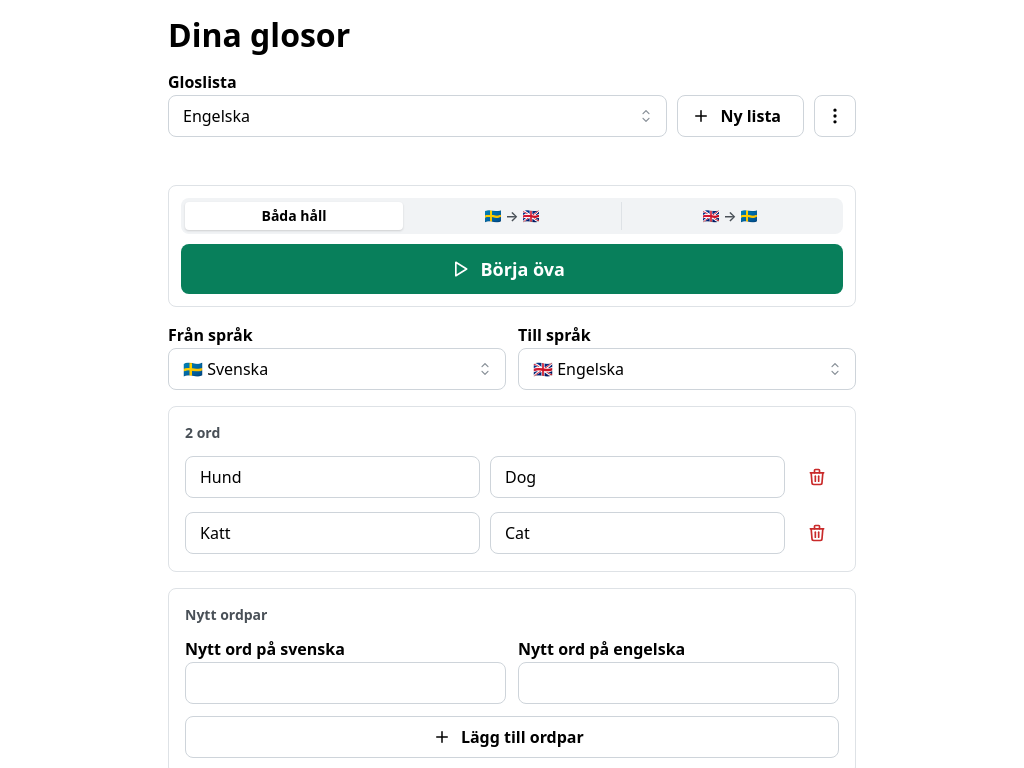
it: EditPage › creates a list and switches to it
Check: the dropdown labelled "Gloslista" is shown, box [168, 95, 667, 137]
Click the button "Ny lista" at (740, 116), box [677, 95, 804, 137]
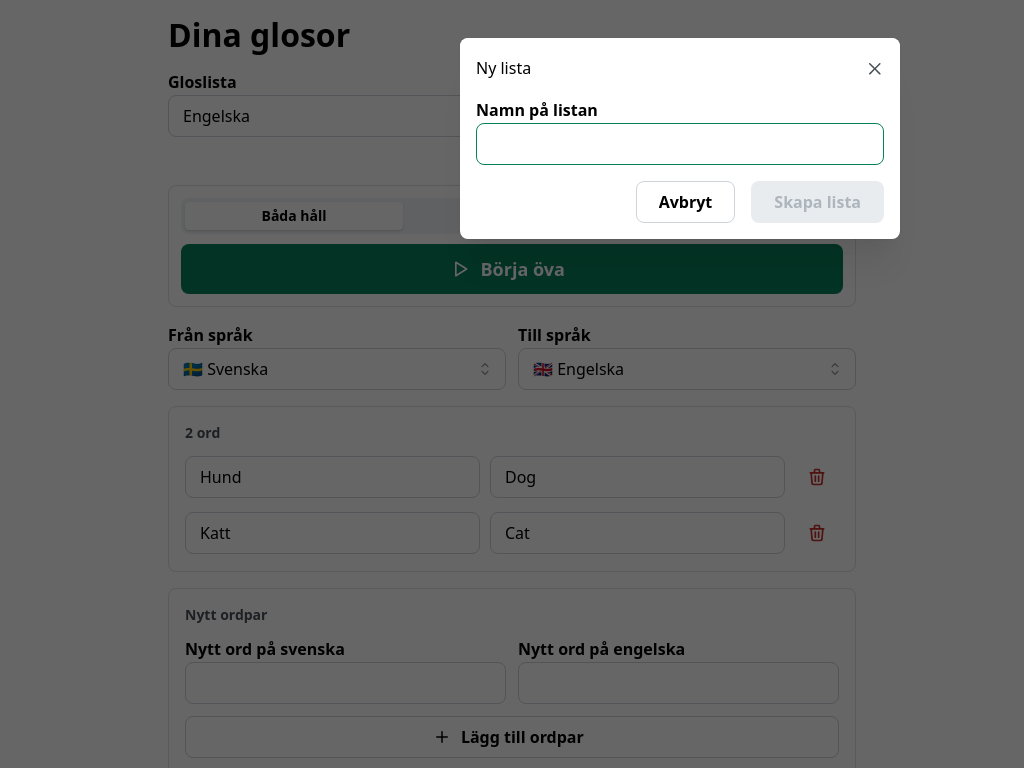
Type "Franska" into the field labelled "Namn på listan" at (680, 144), box [476, 123, 884, 165]
Then press Enter
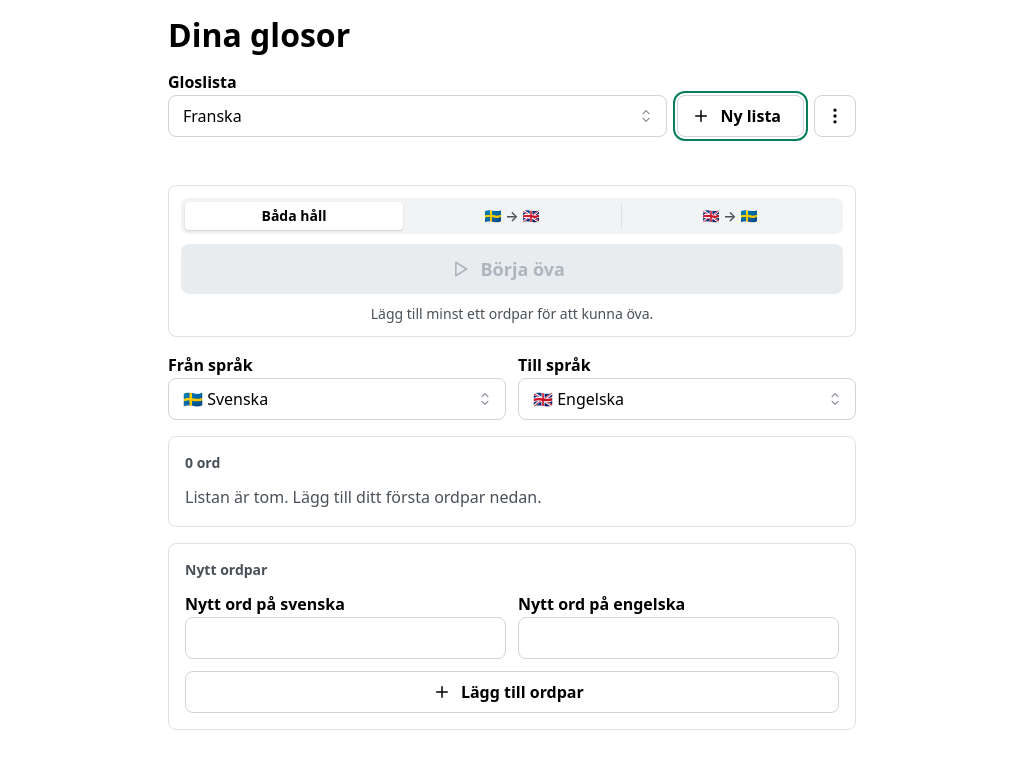
Check: the dropdown labelled "Gloslista" holds "Franska", box [168, 95, 667, 137]
Check: the text "Listan är tom. Lägg till ditt första ordpar nedan." is shown, box [185, 486, 542, 508]
